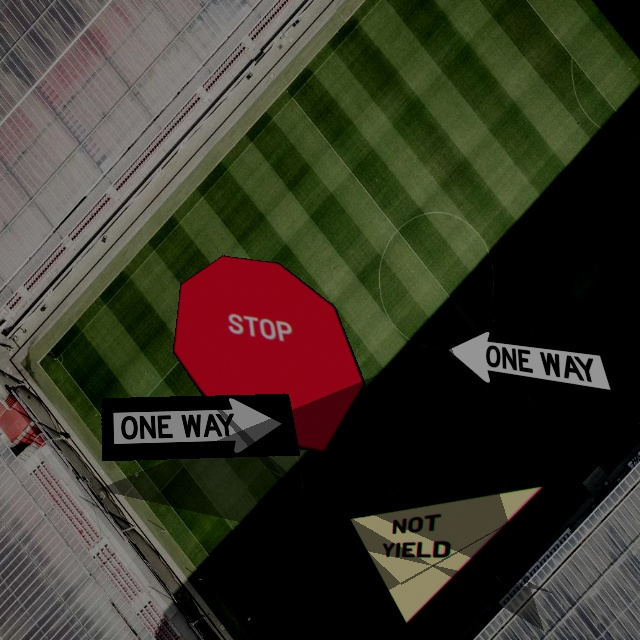NOT_YIELD: (349, 484, 548, 625)
ONE_WAY_ left: (434, 324, 633, 413)
ONE_WAY_ right: (101, 393, 300, 461)
STOP: (172, 255, 366, 454)
